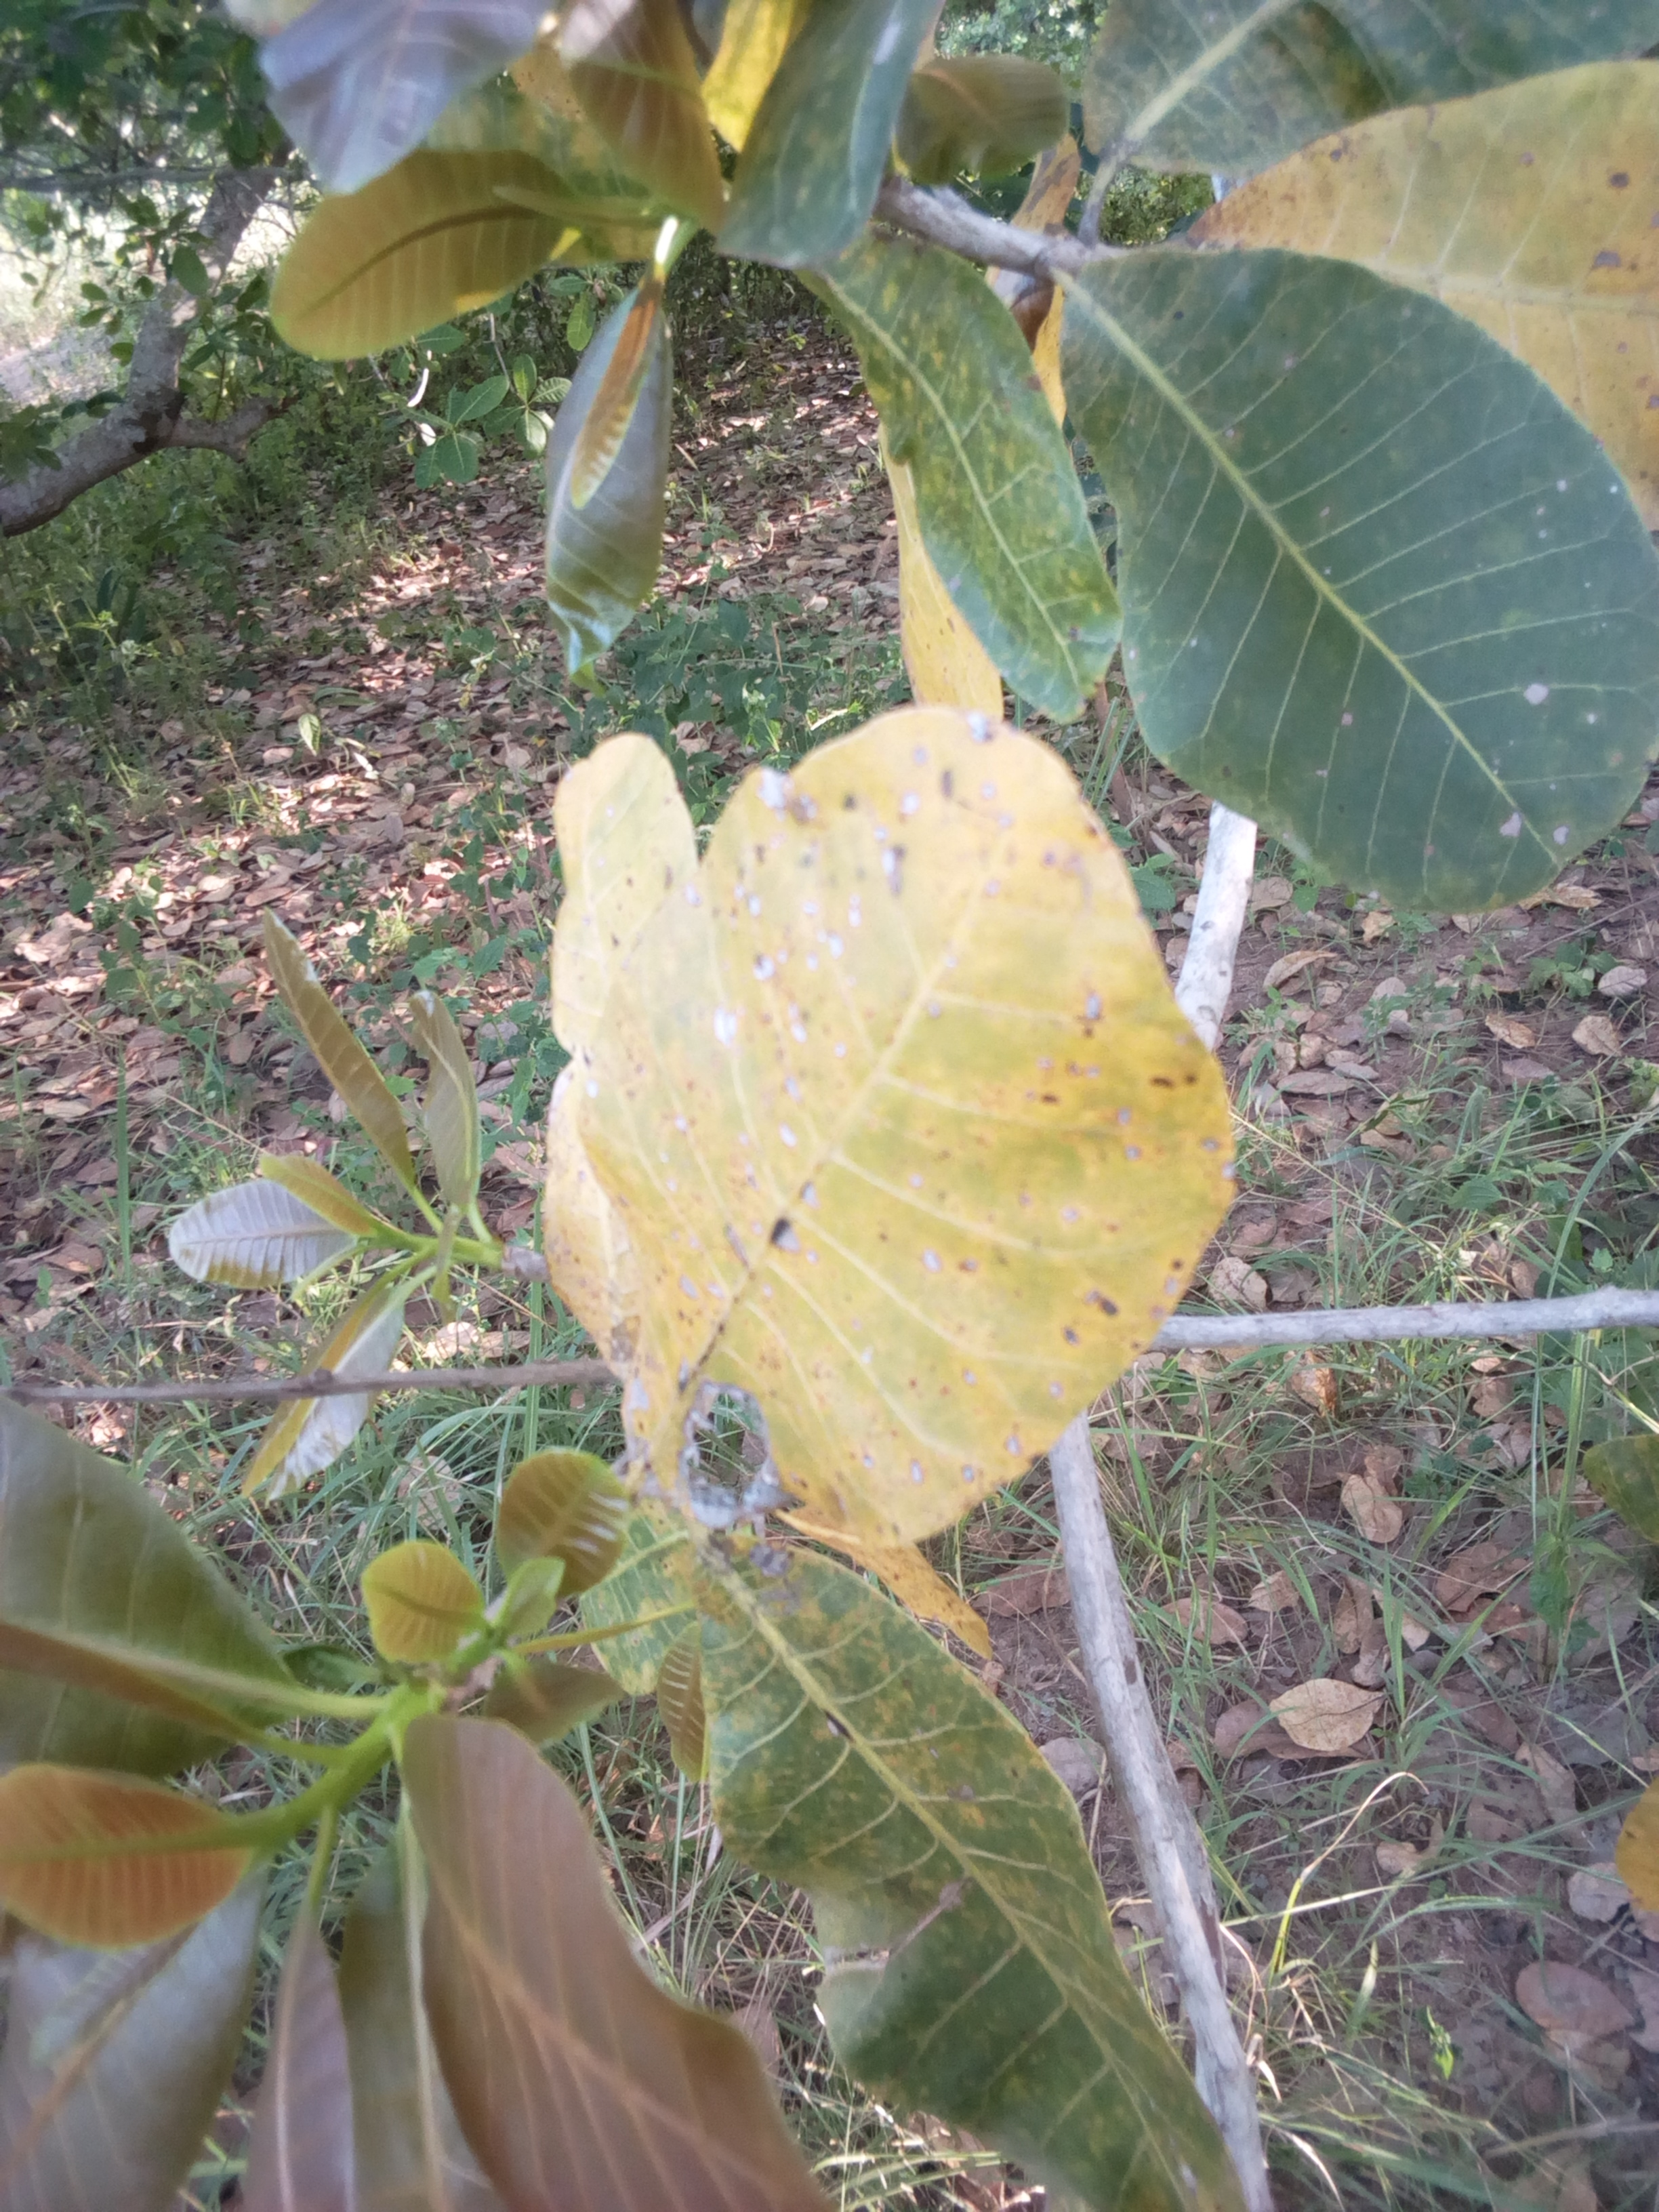Alternariose: (554, 719, 1239, 1493), (683, 1540, 1227, 2212), (1246, 49, 1652, 510), (873, 232, 1110, 716)
